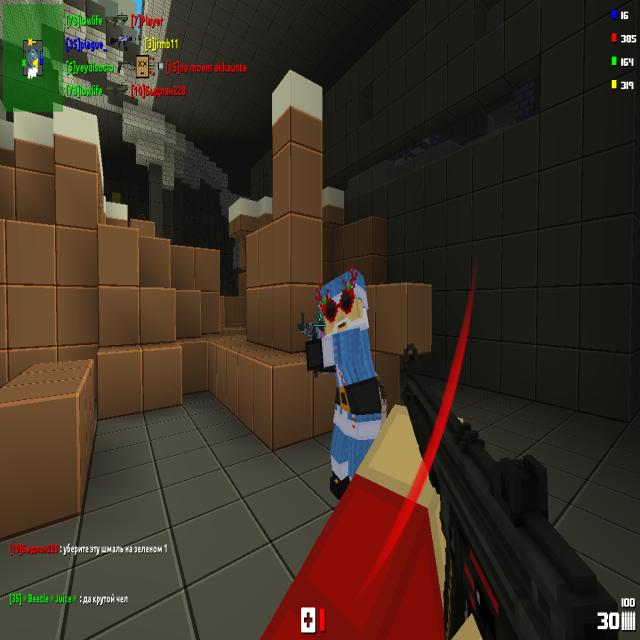enemy: (306, 263, 382, 504)
